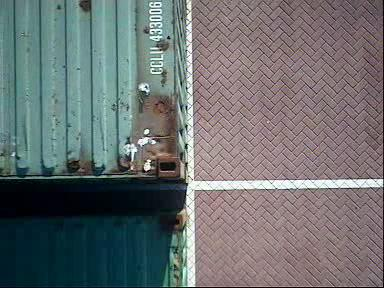groundmarker_2: (12, 150, 112, 213)
